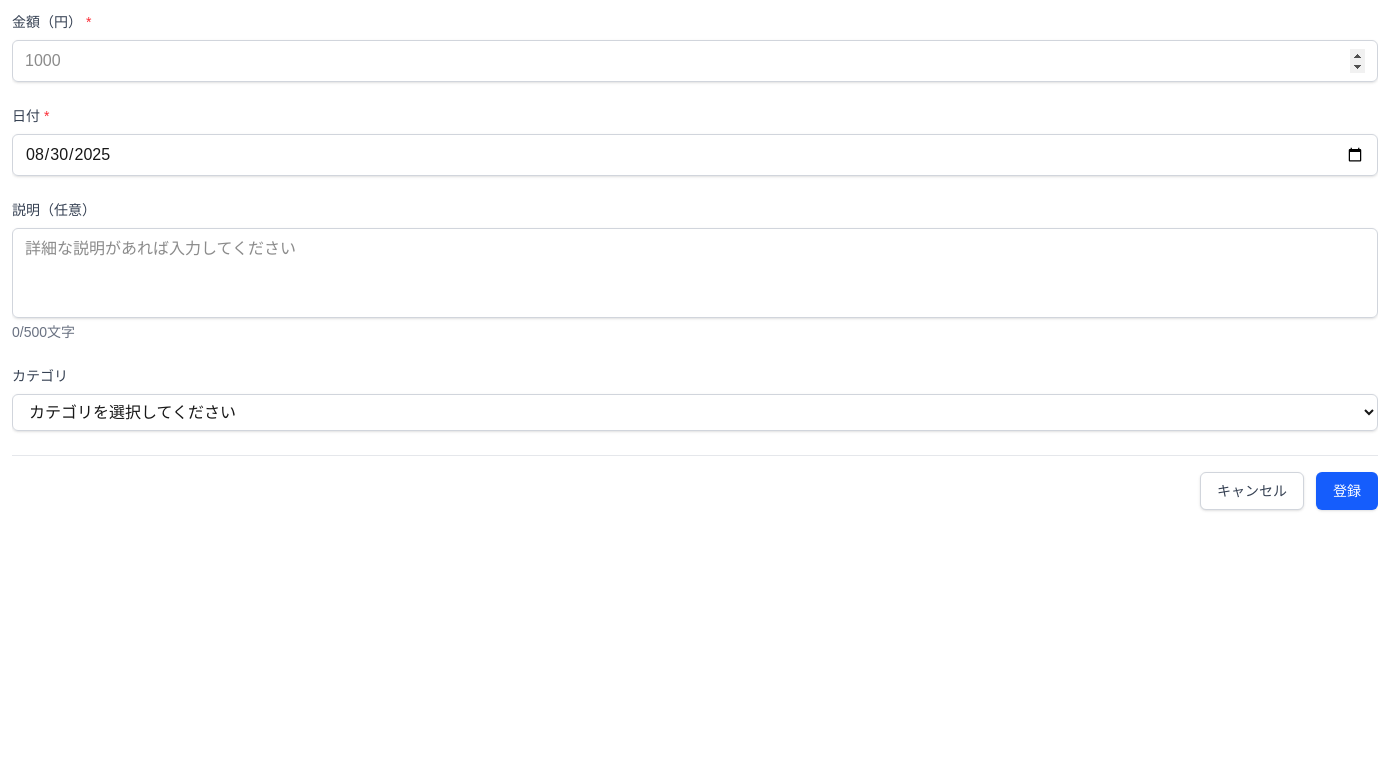
Test: ExpenseForm › バリデーション › 金額の範囲エラーが表示される
The width and height of the screenshot is (1390, 780).
In the number field labelled "金額（円） *": (695, 61) top-left (12, 40), bottom-right (1378, 82), type "10000001"
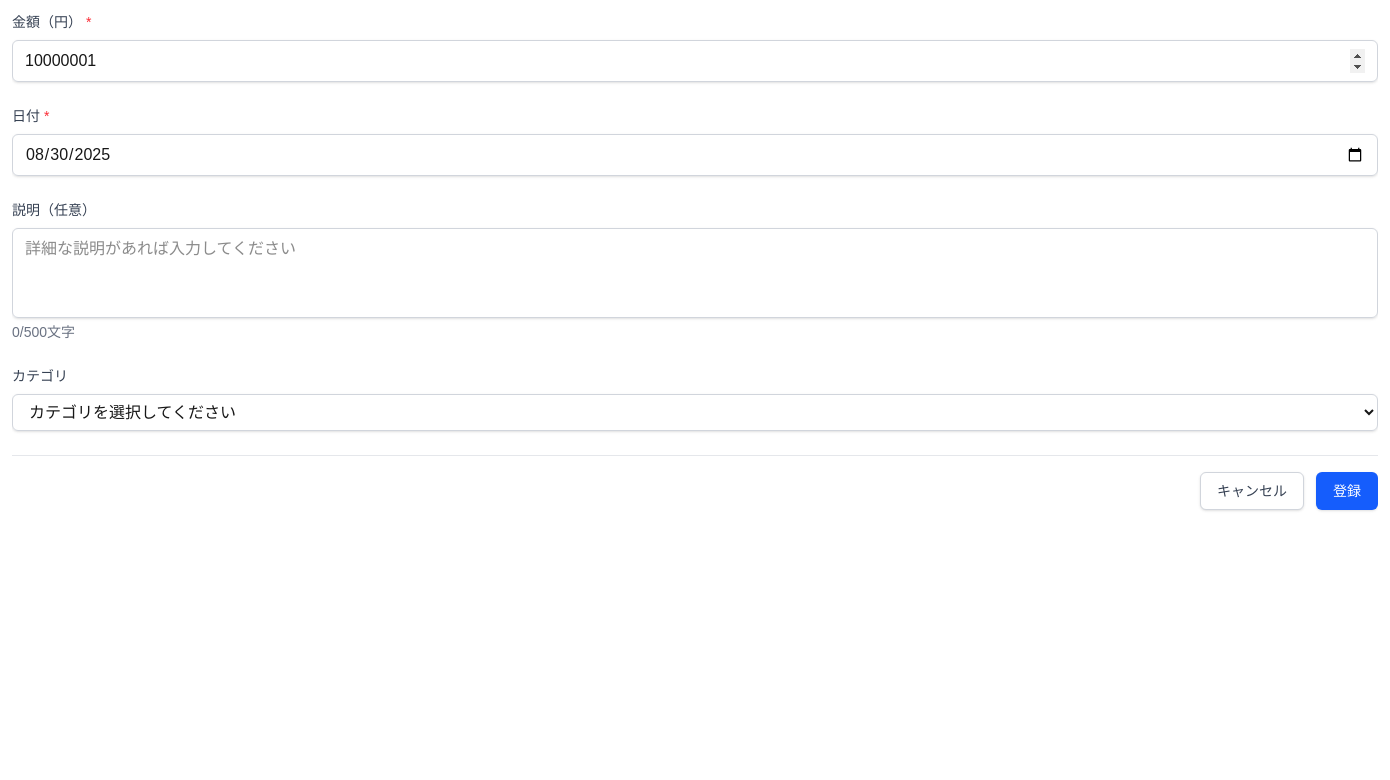
Leave the number field labelled "金額（円） *", box top-left (12, 40), bottom-right (1378, 82)
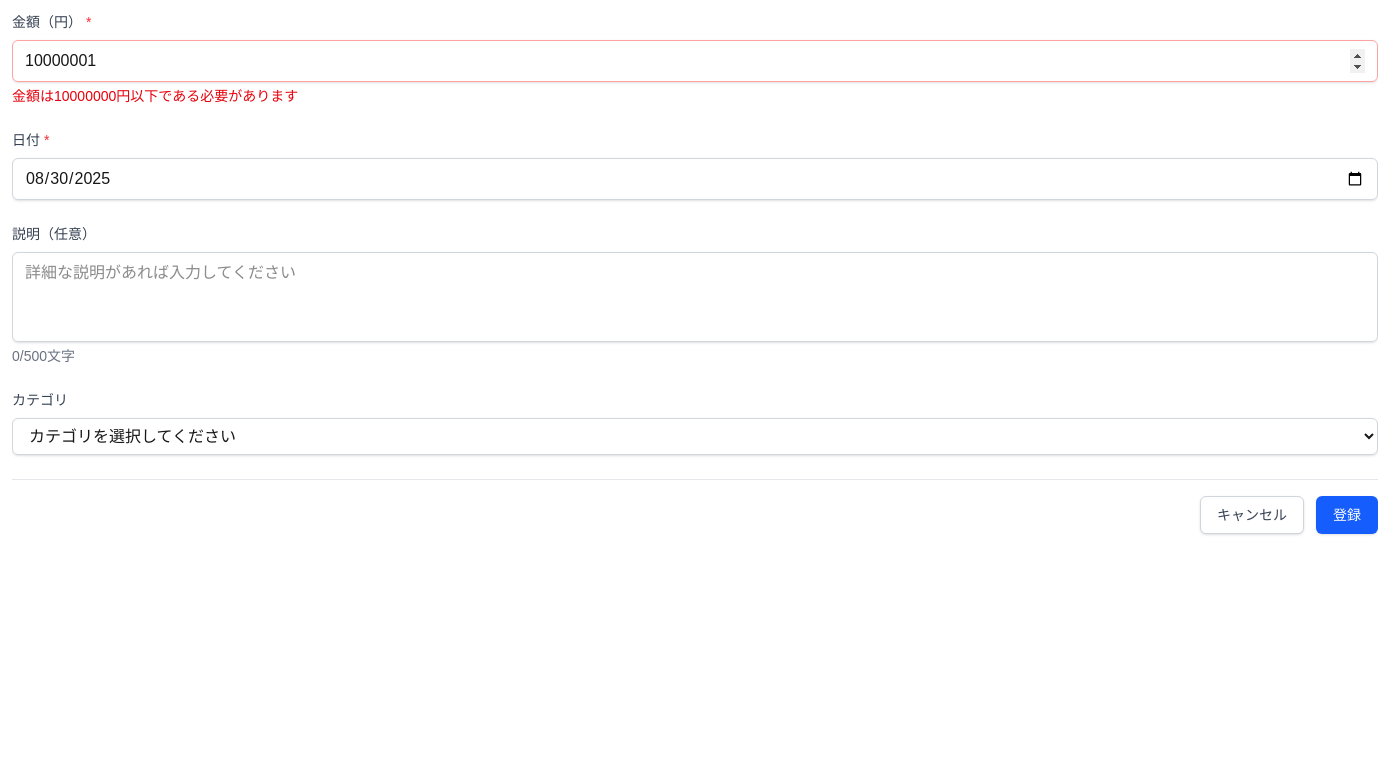
Expected: the text "金額は10000000円以下である必要があります" is shown, top-left (12, 88), bottom-right (298, 104)
